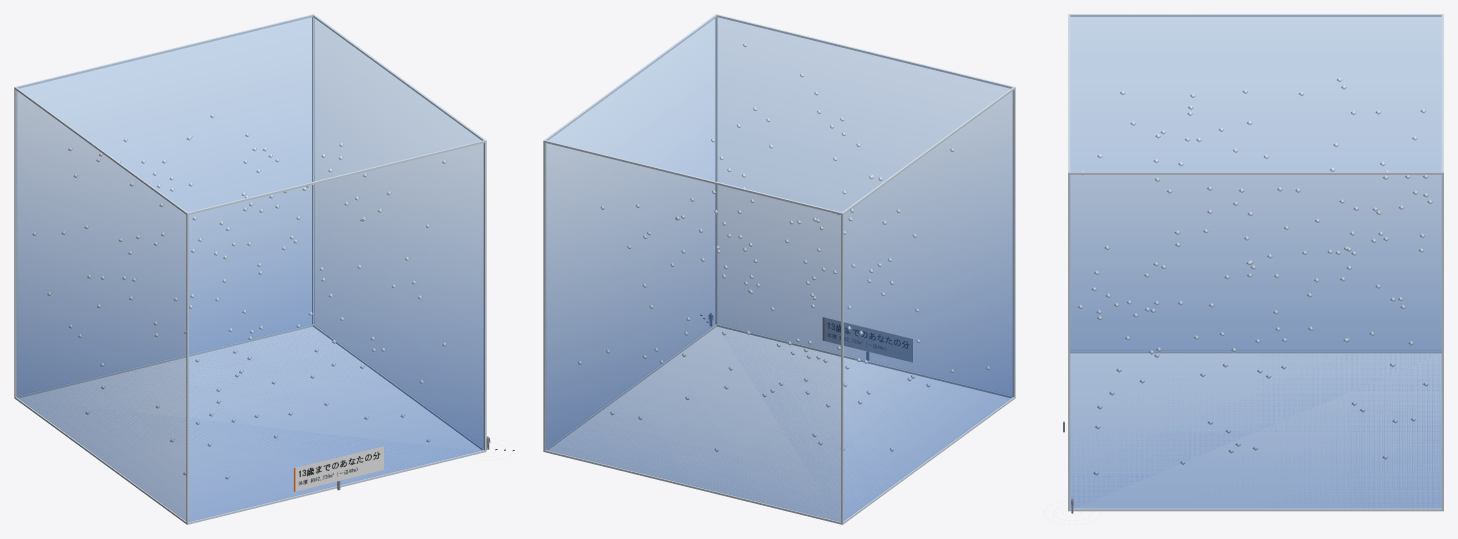
Rendered from cube_life_13.glb.
3 views of the same model, side by side, from view 1: azimuth 30°, elevation 25°; view 2: azimuth 150°, elevation 25°; view 3: azimuth 270°, elevation 25° (orthographic). The views are drawn at different scales.
Visible parts, largest first — view 1: co2, edge, label, dots; view 2: co2, edge, dots, label; view 3: co2, edge, dots.
Boxes of the visible parts, x1,y1,x2,y2 form: co2: (16,15,483,521); edge: (14,14,486,524); label: (293,446,383,491); dots: (32,114,446,479); co2: (546,15,1013,521); edge: (543,14,1015,524); dots: (578,43,990,451); label: (823,317,912,362); co2: (1069,15,1442,508); edge: (1068,14,1443,511); dots: (1078,77,1432,475).
Bounding box in the file's own units: 43.31 × 39.63 × 42.41.
Materials: 8 (3 with a texture image).
